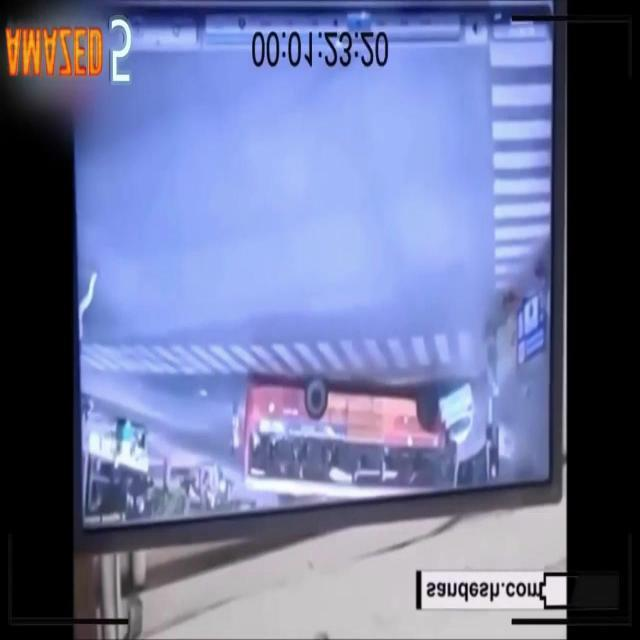severe: (235, 376, 477, 504)
